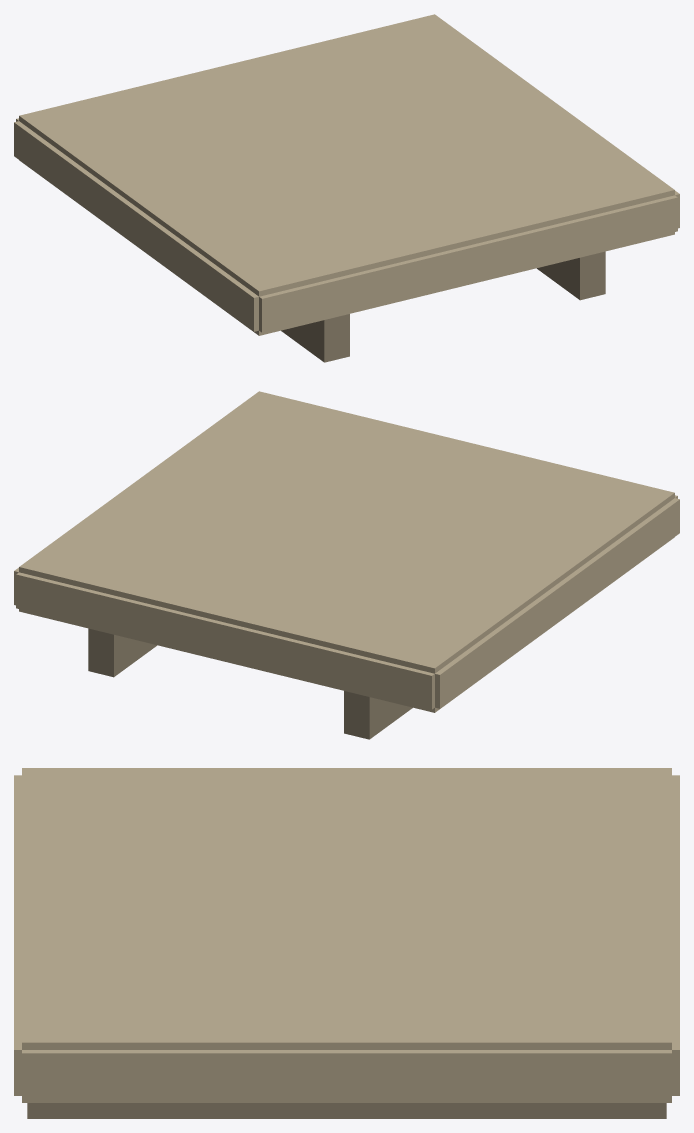
The model's file is boreal_platform_v0.glb.
The picture shows the model from 3 angles, top to bottom: view 1: azimuth 30°, elevation 25°; view 2: azimuth 150°, elevation 25°; view 3: azimuth 270°, elevation 25°; orthographic projection. The views are drawn at different scales.
Visible parts, largest first — view 1: boreal_platform_v0; view 2: boreal_platform_v0; view 3: boreal_platform_v0.
Part boxes in pixels (x1=…): boreal_platform_v0: x1=14, y1=14, x2=679, y2=362; boreal_platform_v0: x1=14, y1=391, x2=679, y2=739; boreal_platform_v0: x1=14, y1=768, x2=679, y2=1118.
Size of the model in its own units: 1 by 0.2 by 1.
